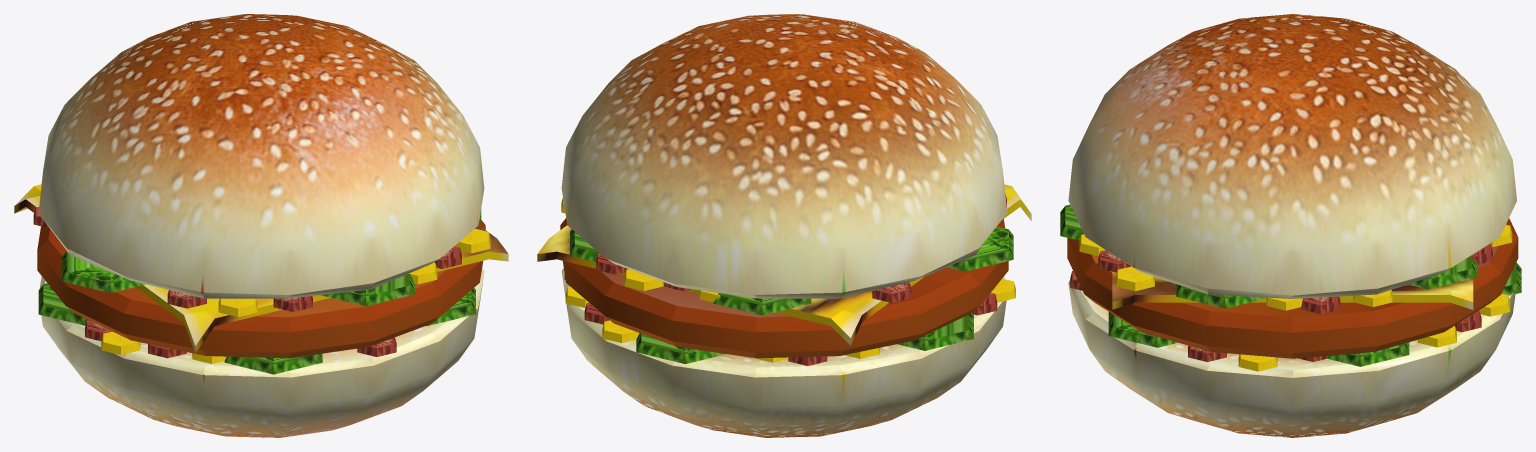
File: yummy_burger.fbx
3 renders of one model, left to right at view 1: azimuth 30°, elevation 25°; view 2: azimuth 150°, elevation 25°; view 3: azimuth 270°, elevation 25°, orthographic.
Parts seen in each view (by area): view 1: yummy_burger; view 2: yummy_burger; view 3: yummy_burger.
Part boxes in pixels (<box>): yummy_burger: <box>14,14,508,437</box>; yummy_burger: <box>537,14,1031,437</box>; yummy_burger: <box>1060,14,1521,437</box>.
Size of the model in its own units: 105 by 88.87 by 102.
1 material, 1 textured.
